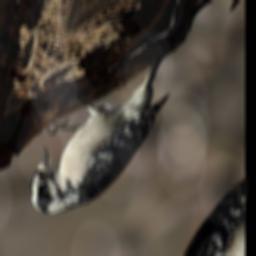Woodpecker: (5, 22, 195, 236)
